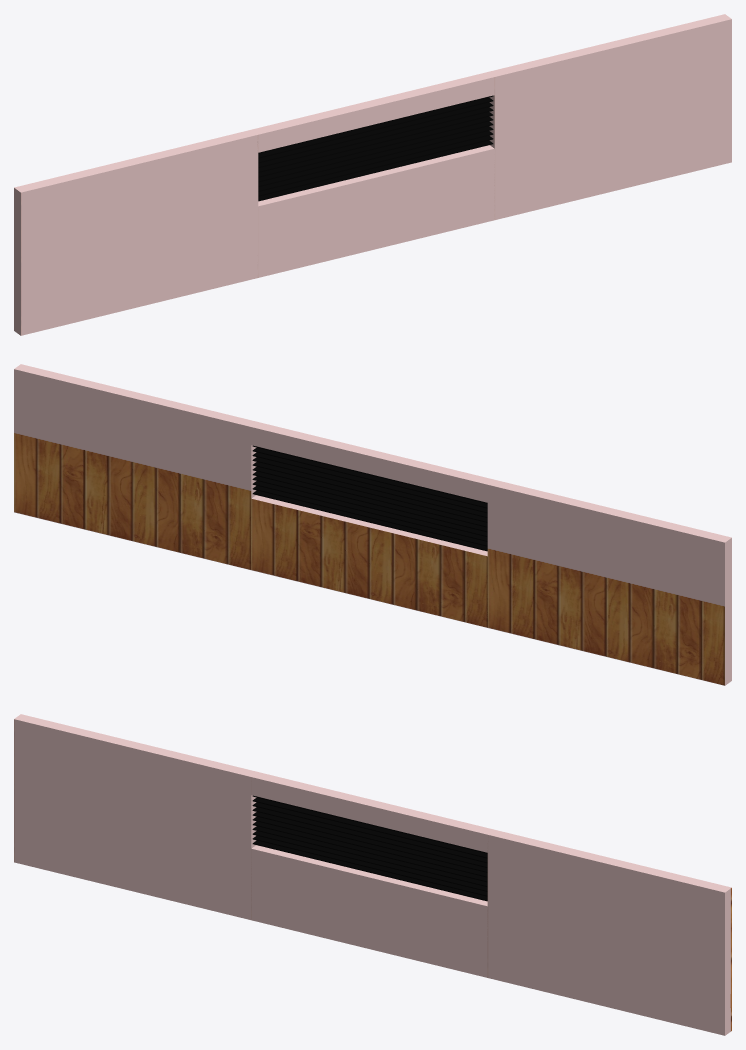
File: WallandWin.fbx
The picture shows the model from 3 angles, top to bottom: view 1: azimuth 30°, elevation 25°; view 2: azimuth 150°, elevation 25°; view 3: azimuth 330°, elevation 25°; orthographic projection.
Visible parts, largest first — view 1: Wall; view 2: Wall; view 3: Wall.
Boxes of the visible parts, x1=… form: Wall: x1=14, y1=14, x2=731, y2=335; Wall: x1=14, y1=364, x2=731, y2=685; Wall: x1=14, y1=714, x2=731, y2=1035.
Bounding box in the file's own units: 11876 × 2286 × 200.
Materials: 2 (1 with a texture image).
